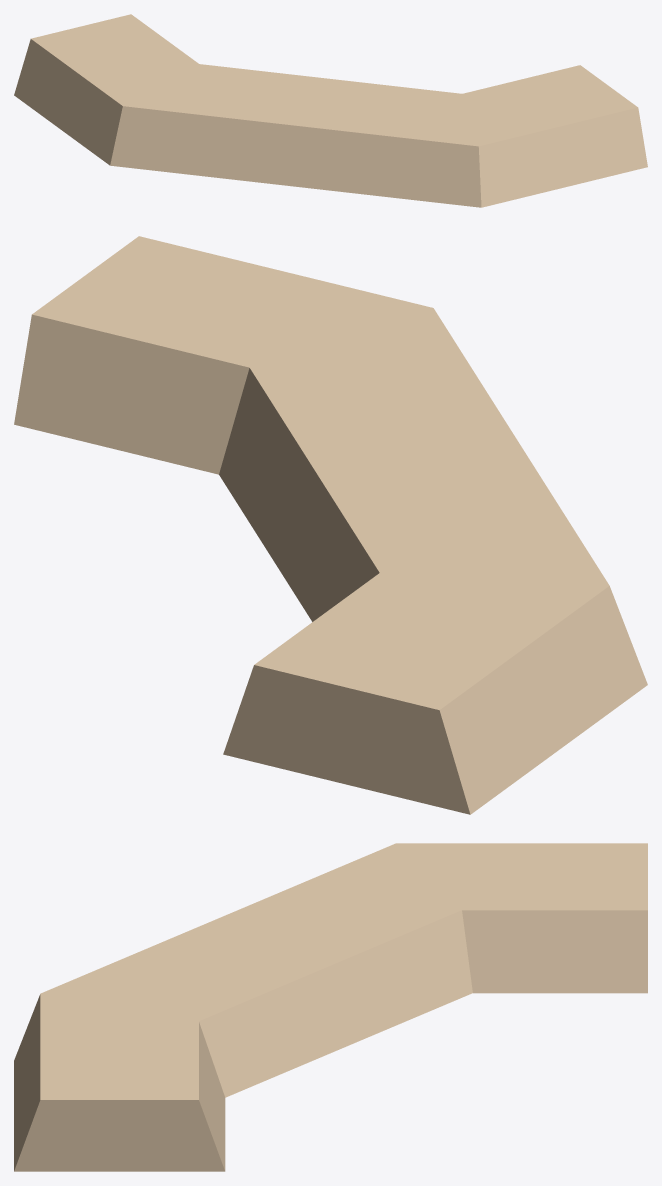
The model's file is temple_Wall_Curved_Small_Base.glb.
The picture shows the model from 3 angles, top to bottom: view 1: azimuth 30°, elevation 25°; view 2: azimuth 150°, elevation 25°; view 3: azimuth 270°, elevation 25°; orthographic projection. The views are drawn at different scales.
Visible parts, largest first — view 1: object1; view 2: object1; view 3: object1.
Part boxes in pixels (x1,y1,x2,y2): object1: (14,14,647,207); object1: (14,236,647,814); object1: (14,843,647,1171).
Bounding box in the file's own units: 1.2 × 0.15 × 1.2.
